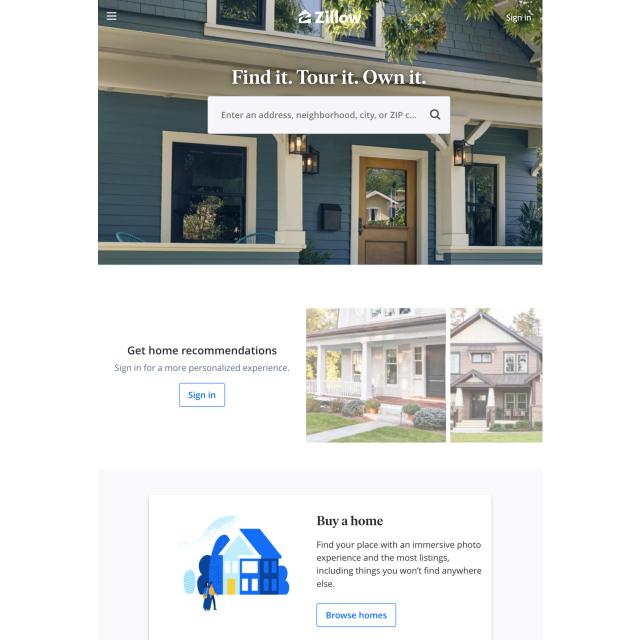input: (208, 96, 450, 134)
logo: (293, 7, 366, 30)
navigation: (102, 8, 122, 24)
